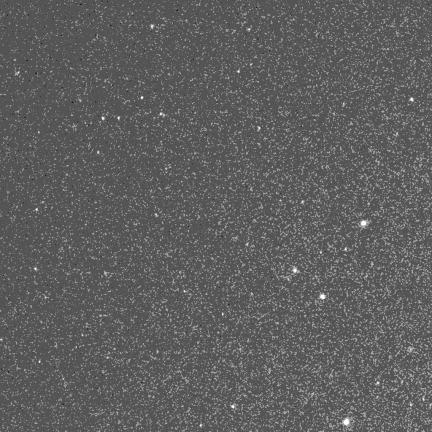blob: (343, 419, 350, 426), (361, 220, 367, 226), (320, 294, 325, 299), (155, 213, 159, 218), (102, 117, 106, 121), (293, 268, 297, 272), (118, 116, 121, 121), (36, 208, 39, 212), (97, 151, 100, 155), (377, 381, 380, 385), (141, 96, 144, 100), (231, 405, 235, 408), (258, 127, 261, 131), (237, 69, 240, 73), (151, 25, 154, 29), (34, 268, 37, 271), (222, 313, 225, 316), (39, 360, 41, 364), (411, 98, 413, 101)
